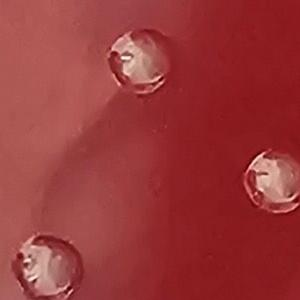colony: (9, 228, 89, 300), (103, 25, 179, 100), (238, 144, 300, 220)
